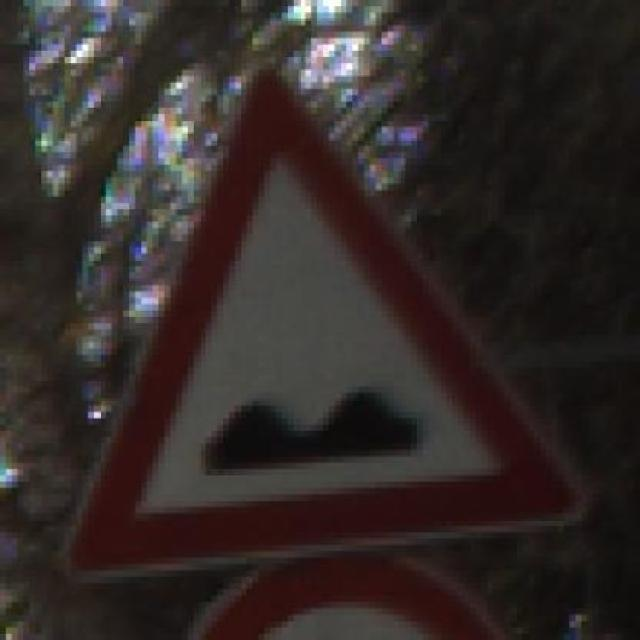Uneven Road: (65, 58, 588, 570)
